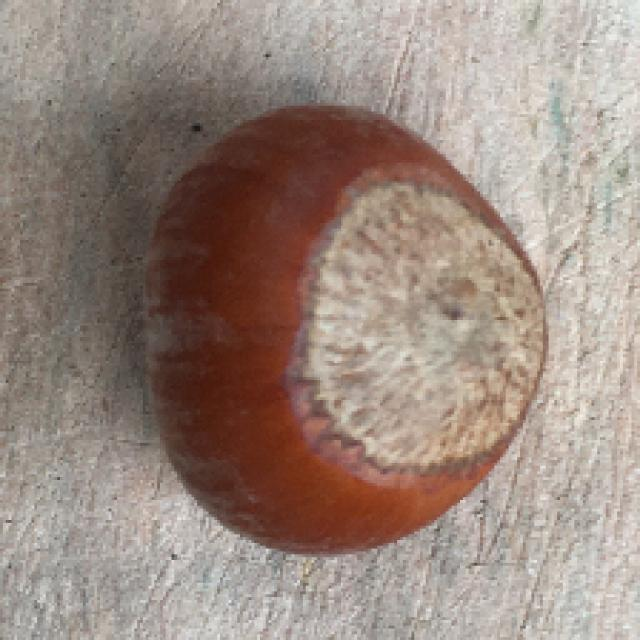qualityHazelnut: (127, 88, 551, 566)
